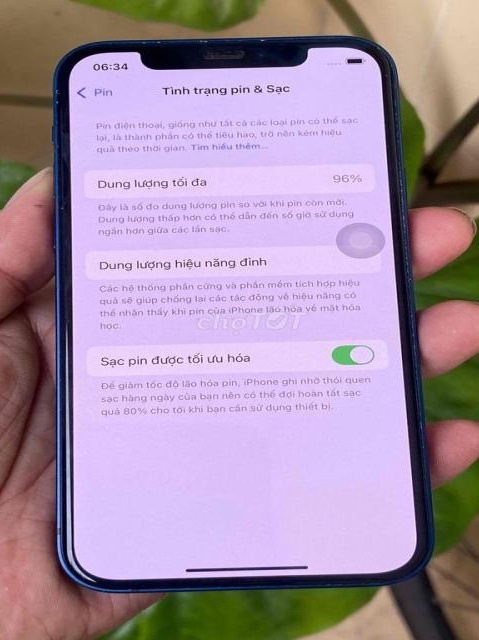scratch: (115, 25, 319, 59)
